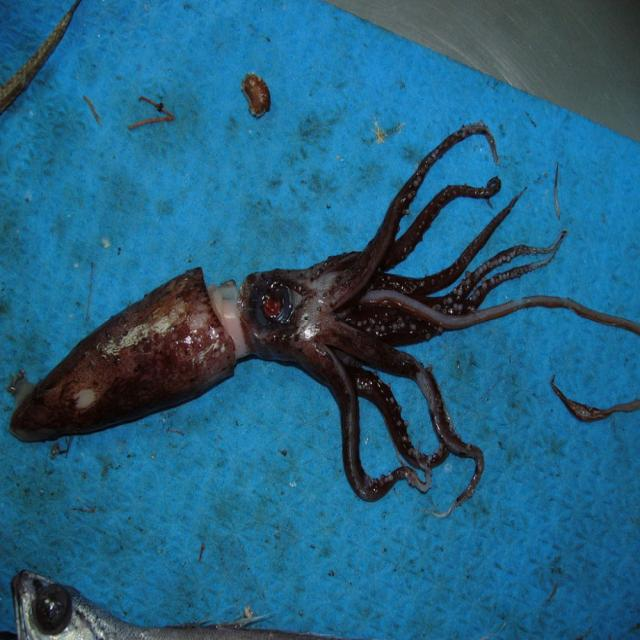SQUID: (1, 104, 640, 543)
